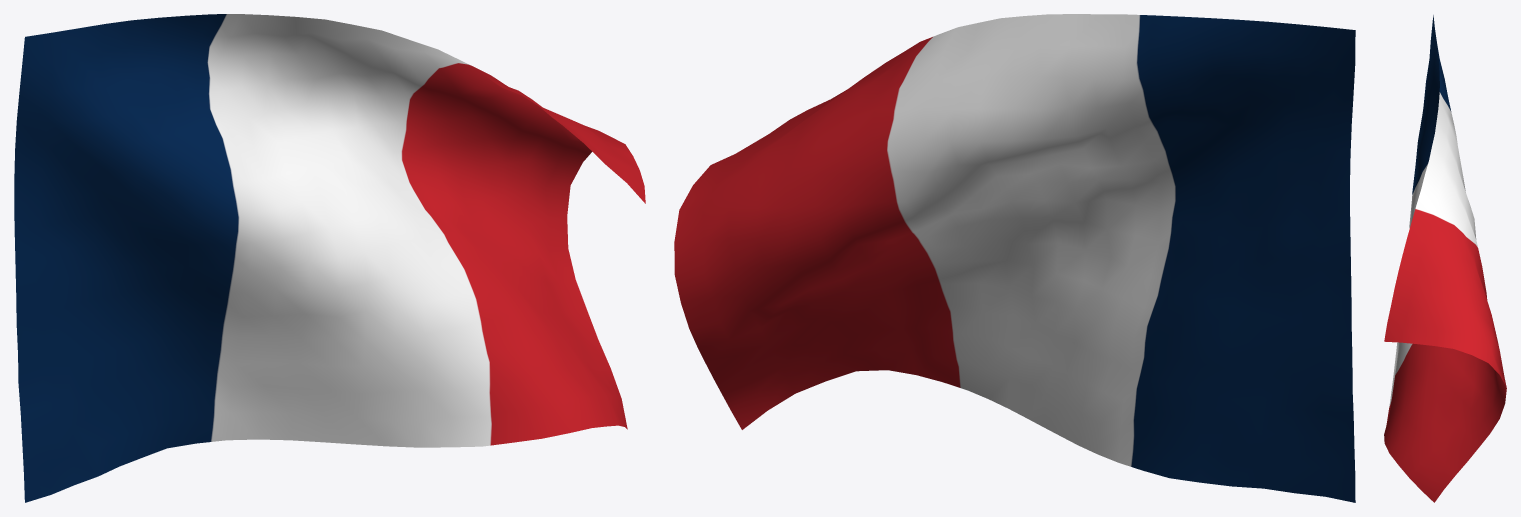
The picture shows the model from 3 angles, left to right: view 1: azimuth 30°, elevation 25°; view 2: azimuth 150°, elevation 25°; view 3: azimuth 270°, elevation 25°; orthographic projection. The views are drawn at different scales.
Visible parts, largest first — view 1: Flag ShapeKeys_2_4_7; view 2: Flag ShapeKeys_2_4_7; view 3: Flag ShapeKeys_2_4_7.
Boxes of the visible parts, x1,y1,x2,y2 form: Flag ShapeKeys_2_4_7: (14,14,645,502); Flag ShapeKeys_2_4_7: (674,14,1355,502); Flag ShapeKeys_2_4_7: (1384,15,1506,502).
Size of the model in its own units: 2.8 by 2.32 by 0.8164.
Materials: 1 (1 with a texture image).
